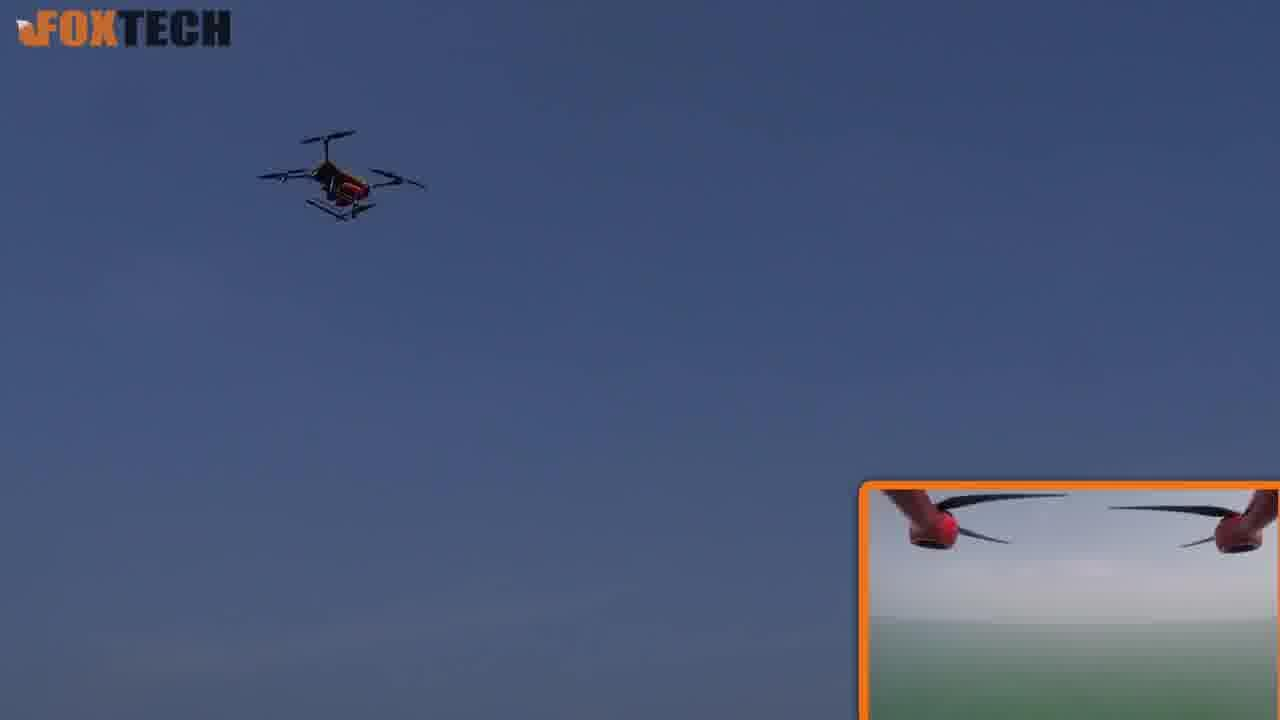drone: (224, 116, 450, 227)
